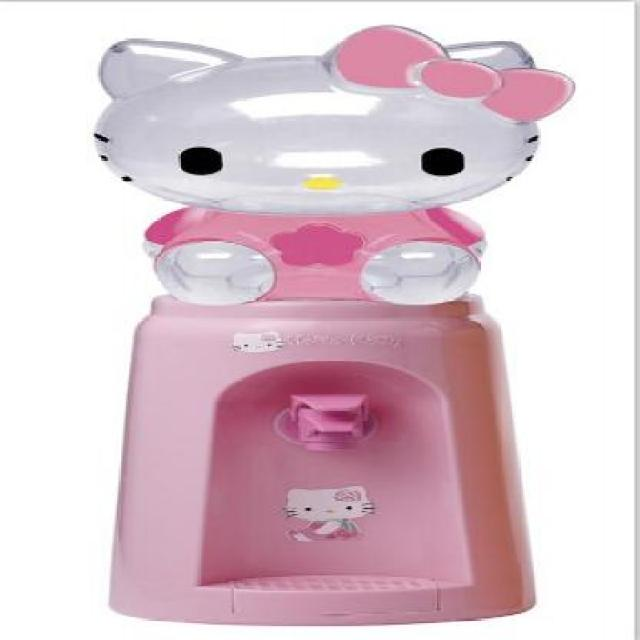cooler: (97, 285, 553, 629)
